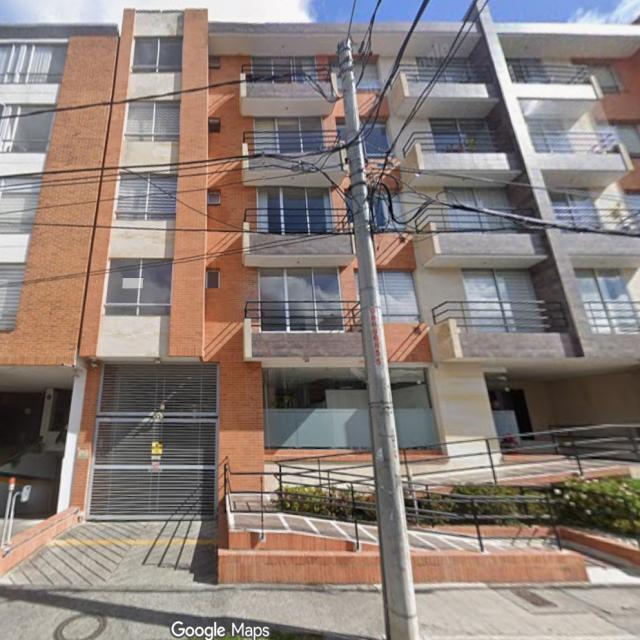fachada: (0, 10, 369, 519)
poste: (338, 39, 419, 639)
